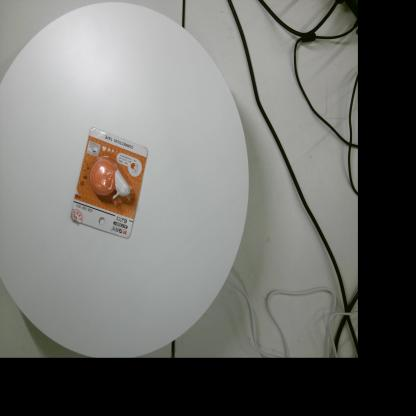Stationery: (70, 127, 148, 239)
